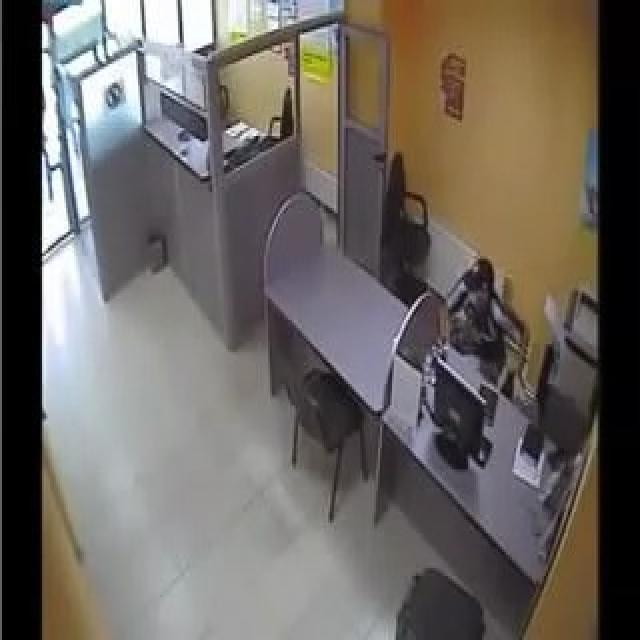Shoplifting: (410, 221, 553, 446)
